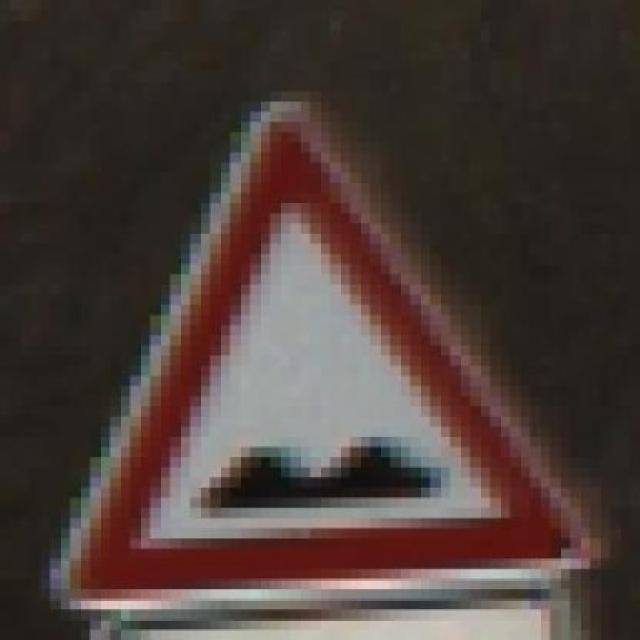Uneven Road: (40, 71, 600, 600)
